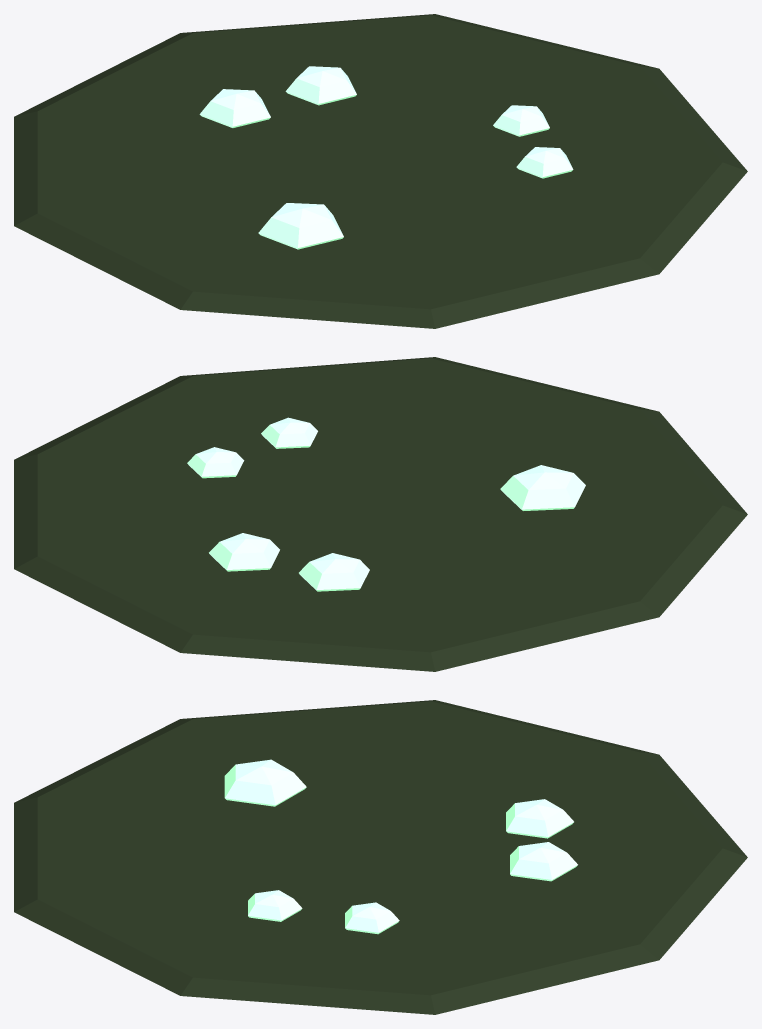
Rendered from prop_foul_pool.glb.
The picture shows the model from 3 angles, top to bottom: view 1: azimuth 30°, elevation 25°; view 2: azimuth 150°, elevation 25°; view 3: azimuth 270°, elevation 25°; orthographic projection.
Parts seen in each view (by area): view 1: prop_foul_pool; view 2: prop_foul_pool; view 3: prop_foul_pool.
Boxes of the visible parts, x1,y1,x2,y2 form: prop_foul_pool: (14,14,747,328); prop_foul_pool: (14,357,747,671); prop_foul_pool: (14,700,747,1014).
Size of the model in its own units: 2.95 by 0.18 by 2.91.
